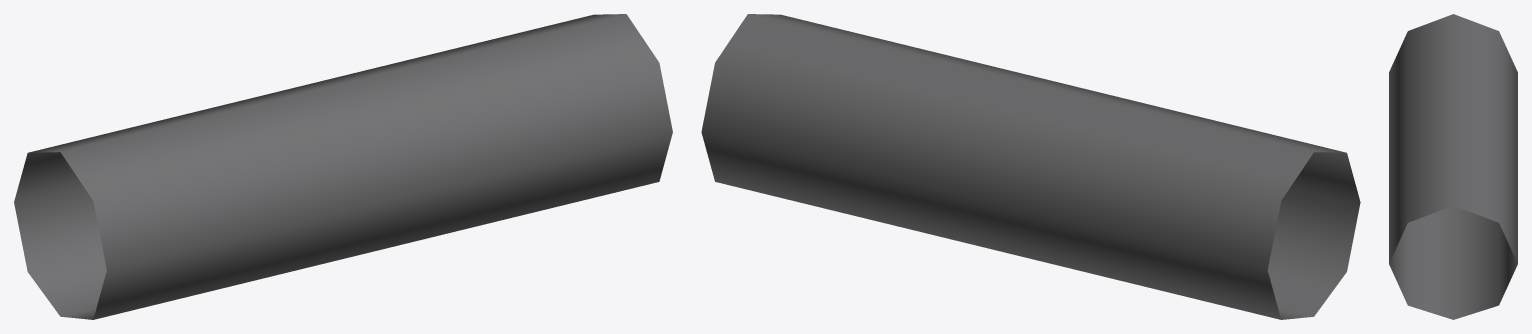
Rendered from Pipe_1_B_1_1.fbx.
3 views of the same model, side by side, from view 1: azimuth 30°, elevation 25°; view 2: azimuth 150°, elevation 25°; view 3: azimuth 270°, elevation 25° (orthographic). The views are drawn at different scales.
Visible parts, largest first — view 1: Pipe_1_B_1_1; view 2: Pipe_1_B_1_1; view 3: Pipe_1_B_1_1.
Part boxes in pixels (bbox=[...]): Pipe_1_B_1_1: bbox=[14, 14, 672, 319]; Pipe_1_B_1_1: bbox=[701, 14, 1360, 319]; Pipe_1_B_1_1: bbox=[1389, 14, 1517, 319].
Bounding box in the file's own units: 76.72 × 21.31 × 21.8.
